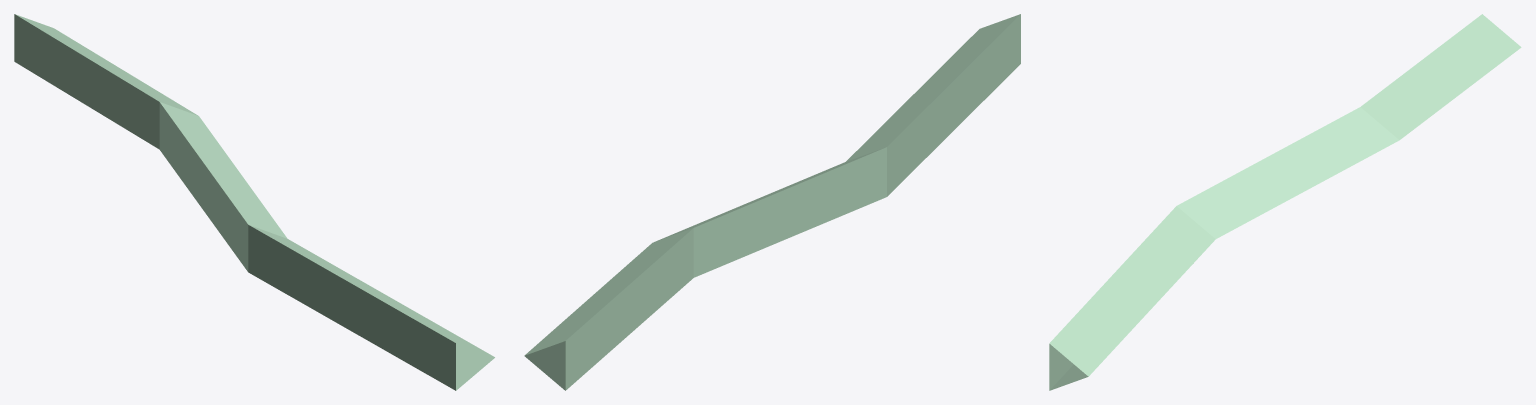
3 renders of one model, left to right at view 1: azimuth 30°, elevation 25°; view 2: azimuth 150°, elevation 25°; view 3: azimuth 330°, elevation 25°, orthographic. The views are drawn at different scales.
Parts seen in each view (by area): view 1: Object20; view 2: Object20; view 3: Object20.
Boxes of the visible parts, x1,y1,x2,y2 form: Object20: [14, 14, 494, 390]; Object20: [524, 14, 1020, 390]; Object20: [1049, 14, 1521, 390].
Size of the model in its own units: 1684 by 1184 by 14612.
